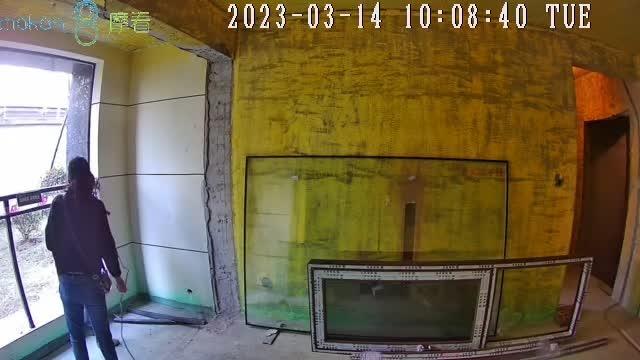people: (45, 156, 129, 360)
window: (1, 63, 92, 352)
